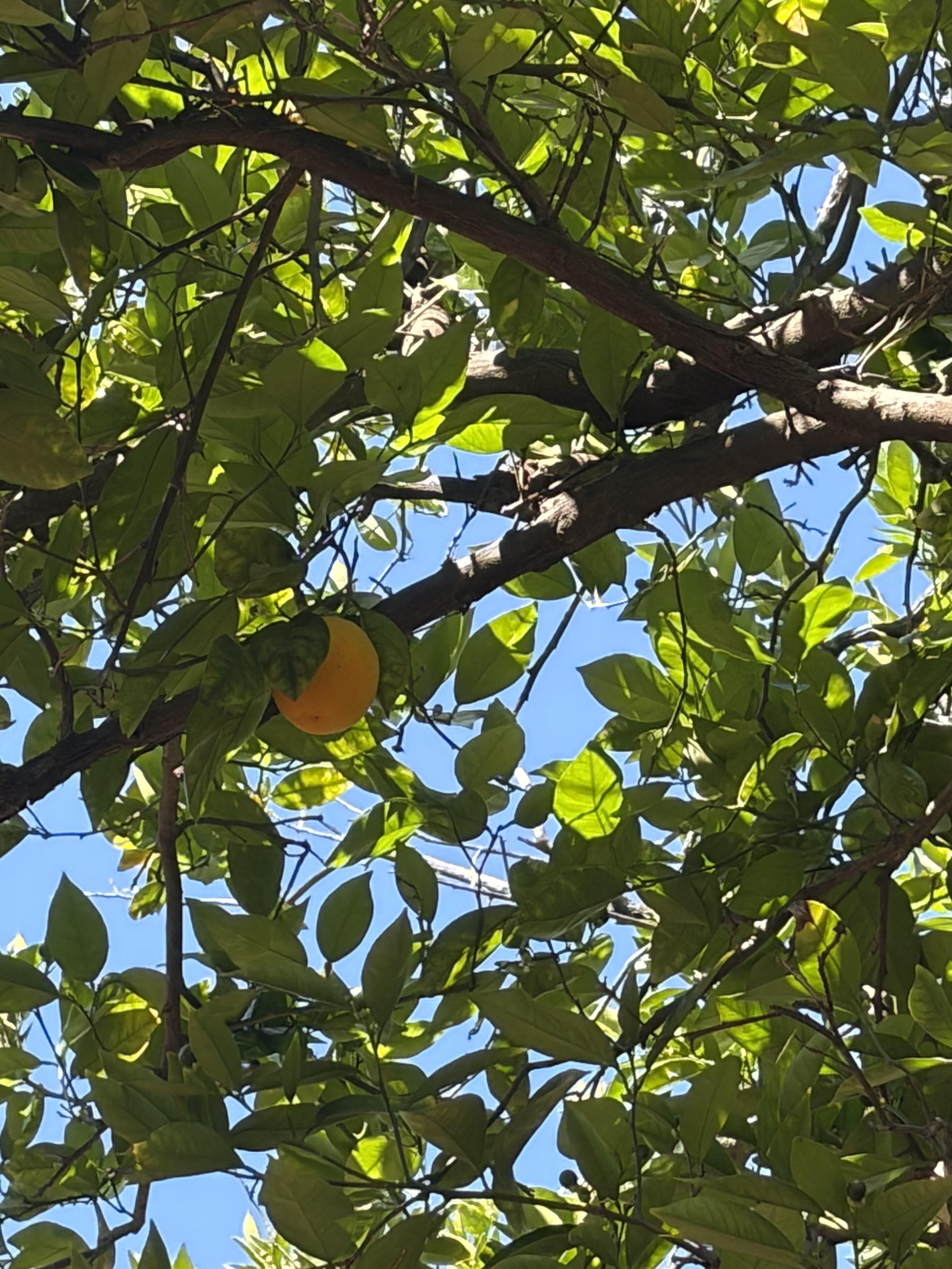orange: (272, 615, 380, 734)
